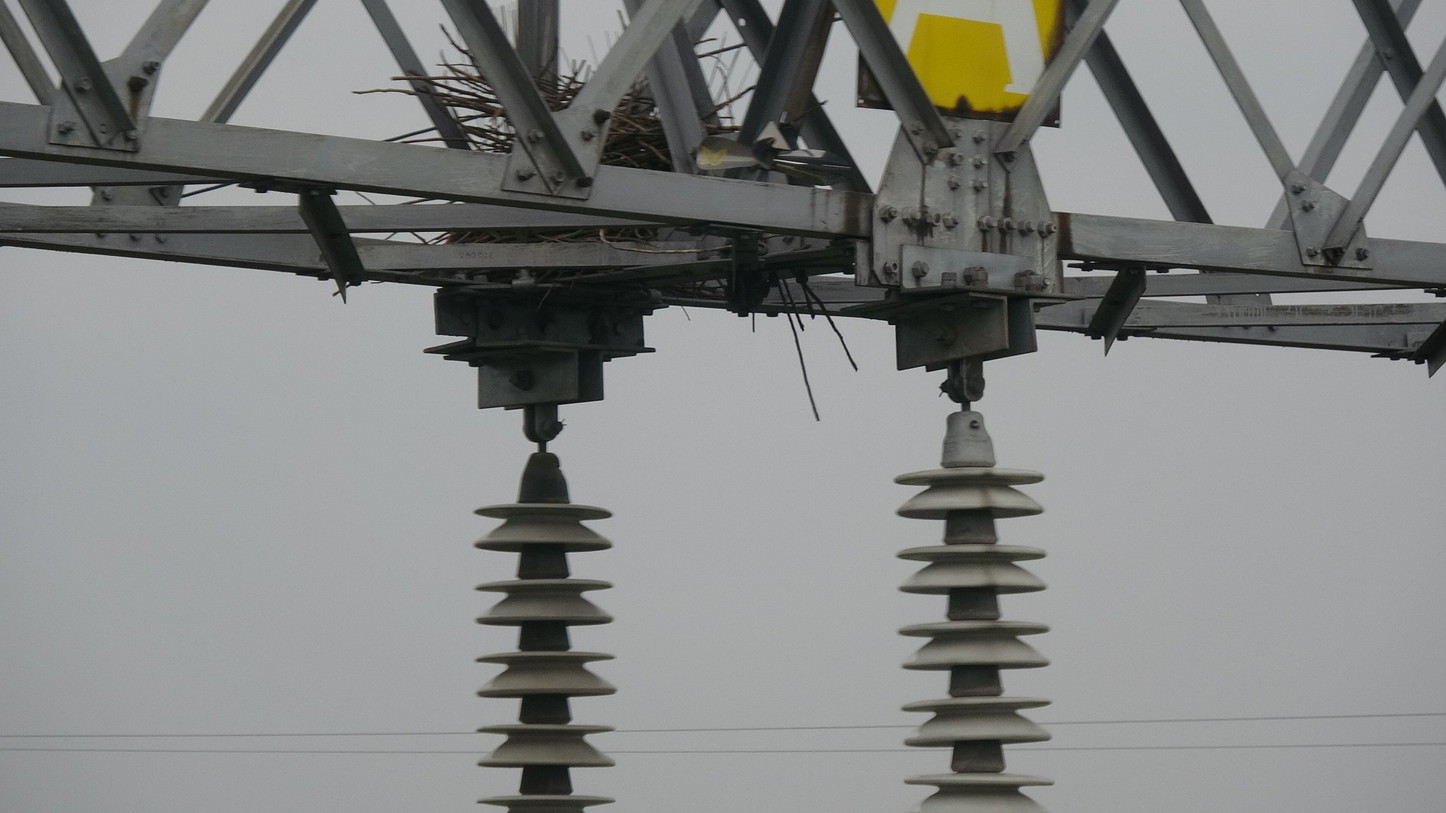insulator: (882, 459, 1065, 813), (462, 483, 630, 813)
